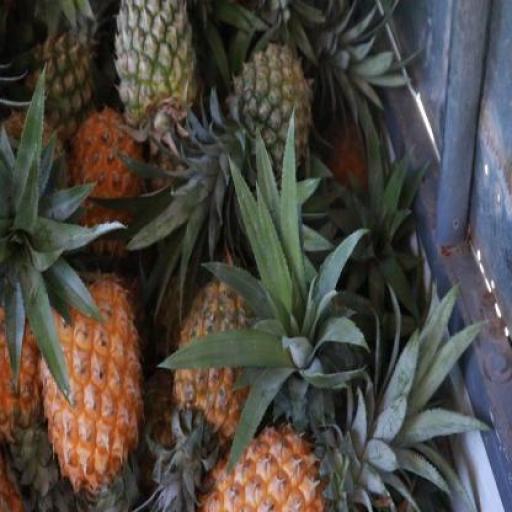Pineapple - v8 v1: (34, 270, 146, 496), (188, 421, 330, 512)
